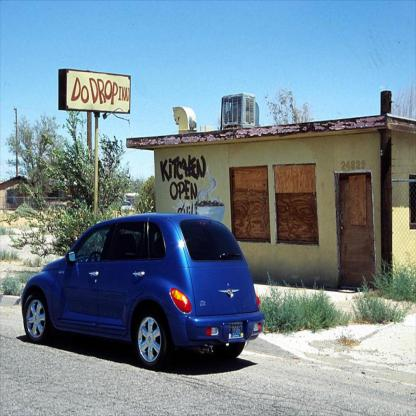Car: (8, 208, 270, 372), (121, 201, 134, 212)
